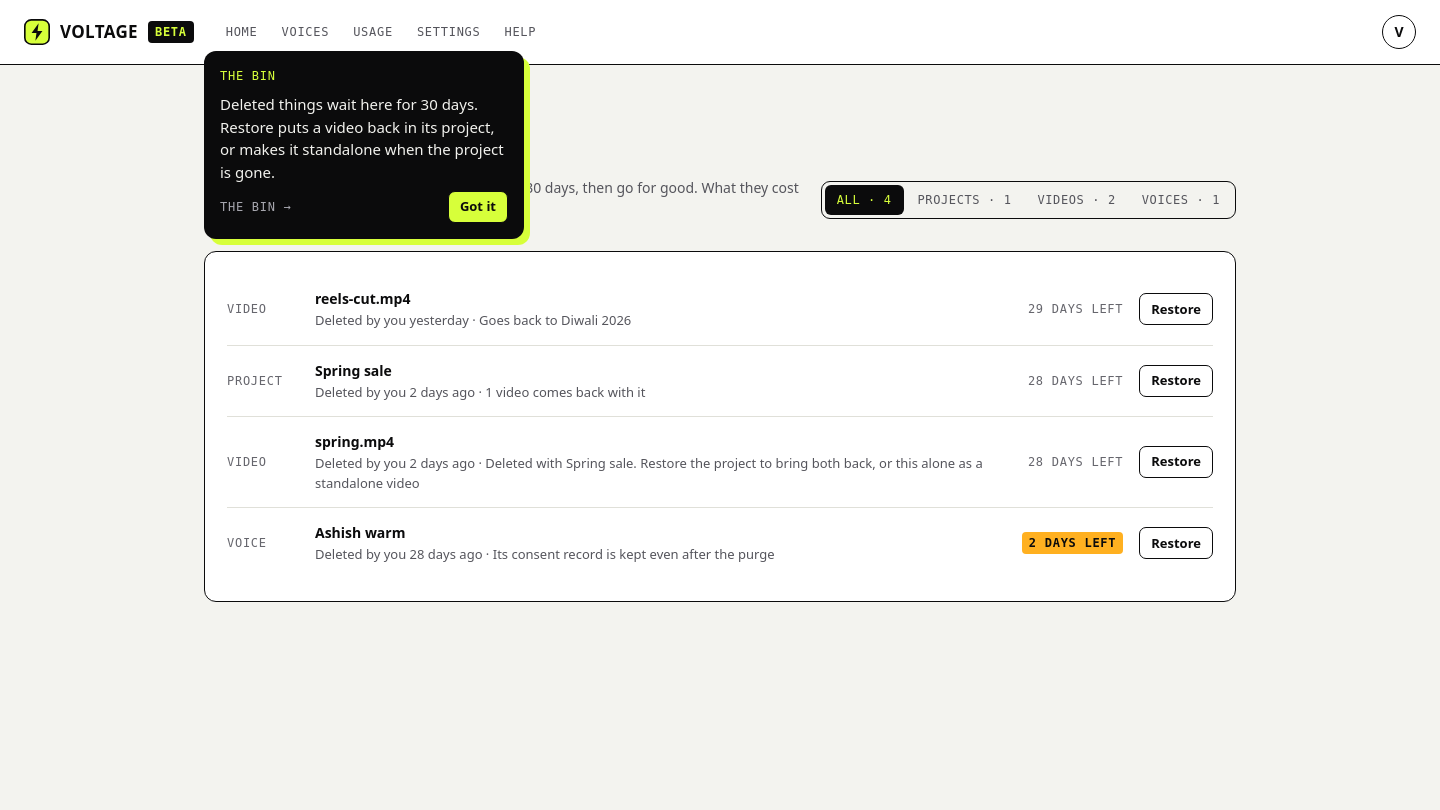
Test: D3: the Bin › restores a project with its videos and says where things went; the action is last
This screenshot has width=1440, height=810.
Click the button with aria-label "Restore Spring sale": (1176, 381) [1139, 365, 1213, 397]
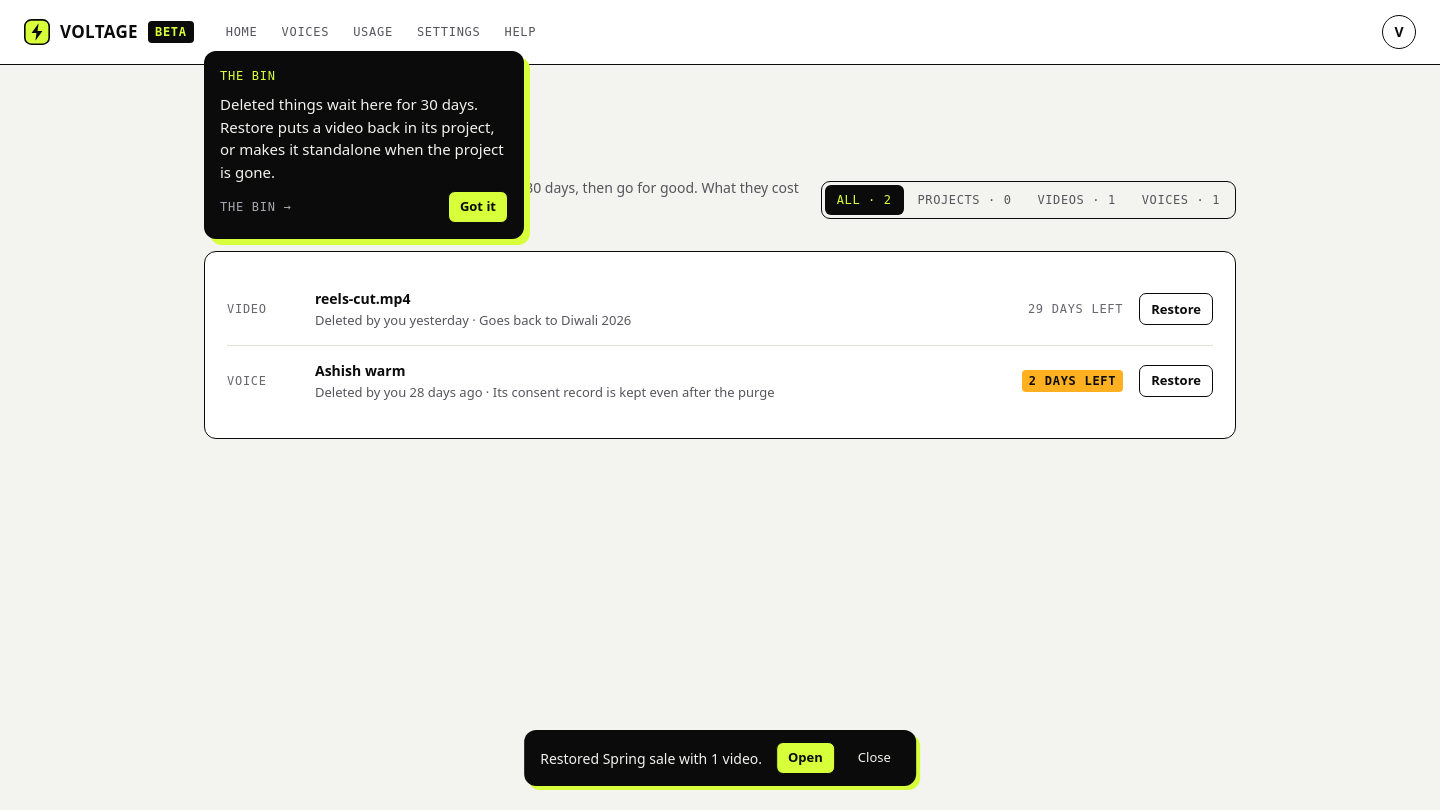
Now the message with test id "bin-toast" shows "Restored Spring sale with 1 video.", box [540, 748, 762, 768]
Click the button with aria-label "Restore reels-cut.mp4": (1176, 309) [1139, 293, 1213, 325]
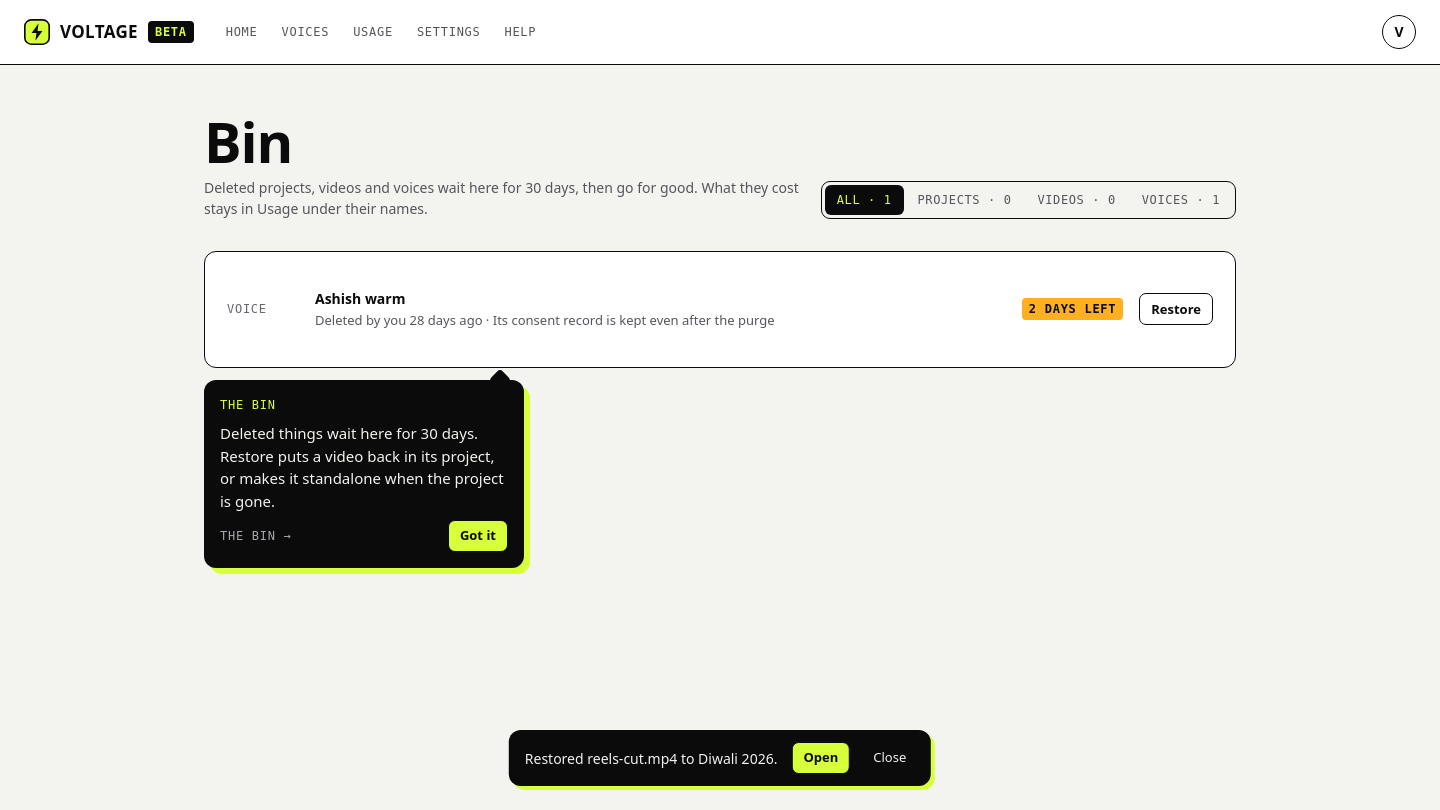
Now the message with test id "bin-toast" shows "Restored reels-cut.mp4 to Diwali 2026.", box [525, 748, 777, 768]
